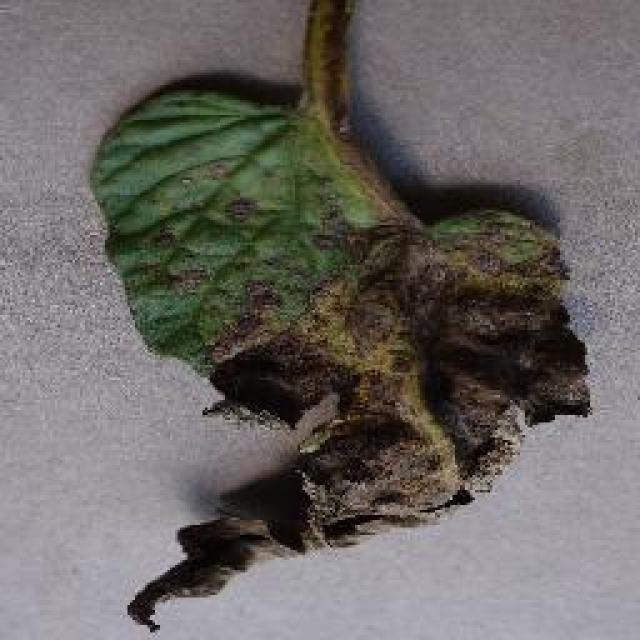Tomato___Early_blight: (81, 0, 590, 632)
